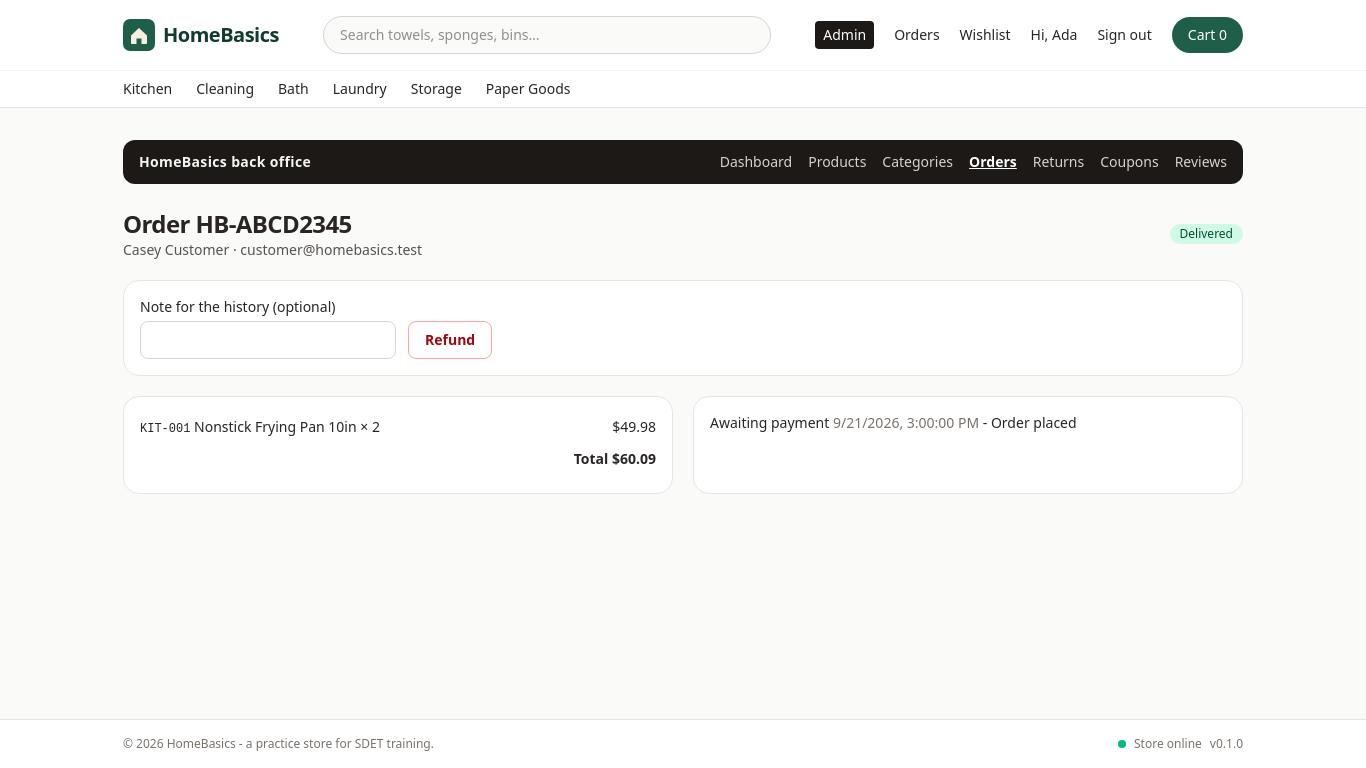
admin orders (ADM-03) › refund uses the refund endpoint
Click the button with test id "admin-order-action-refunded": (450, 340) [408, 321, 492, 359]
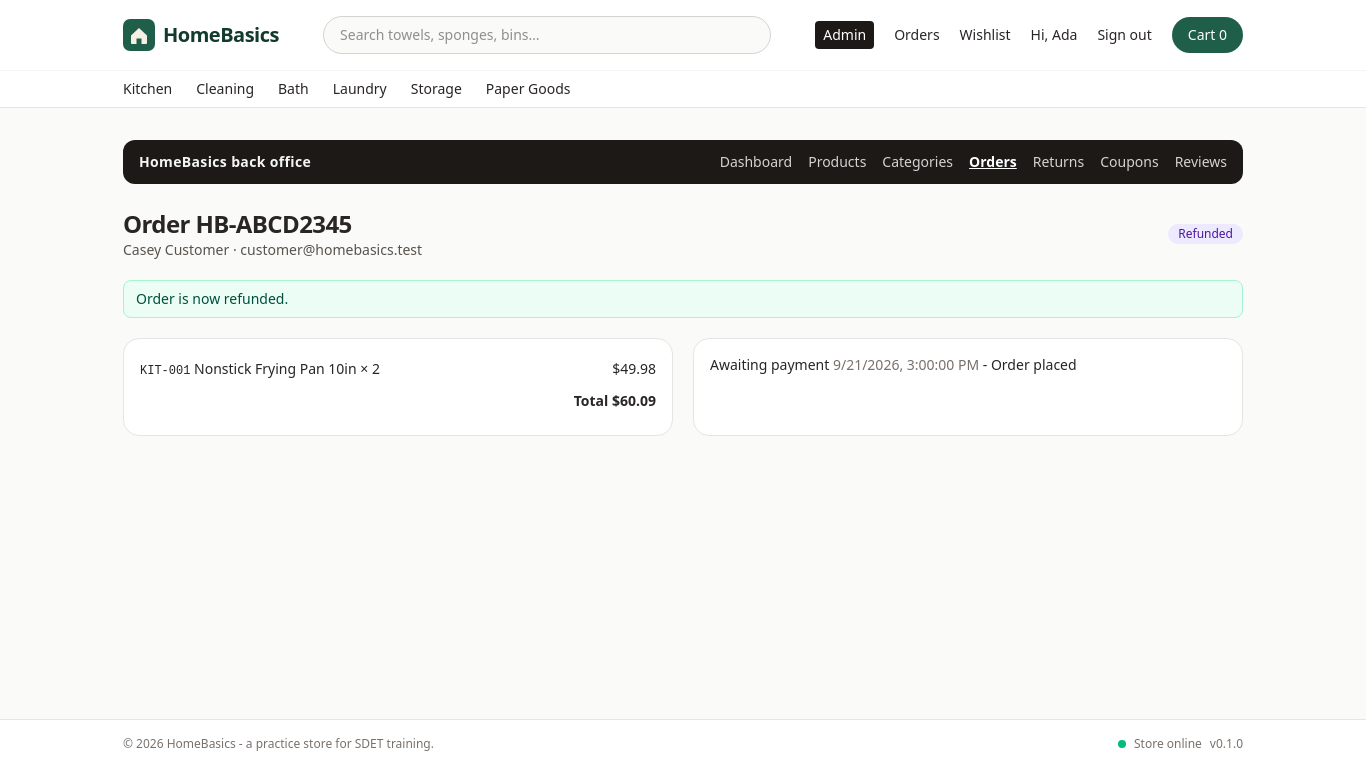
expect the message with test id "admin-notice" reads "Order is now refunded.": met, box [136, 289, 288, 308]
